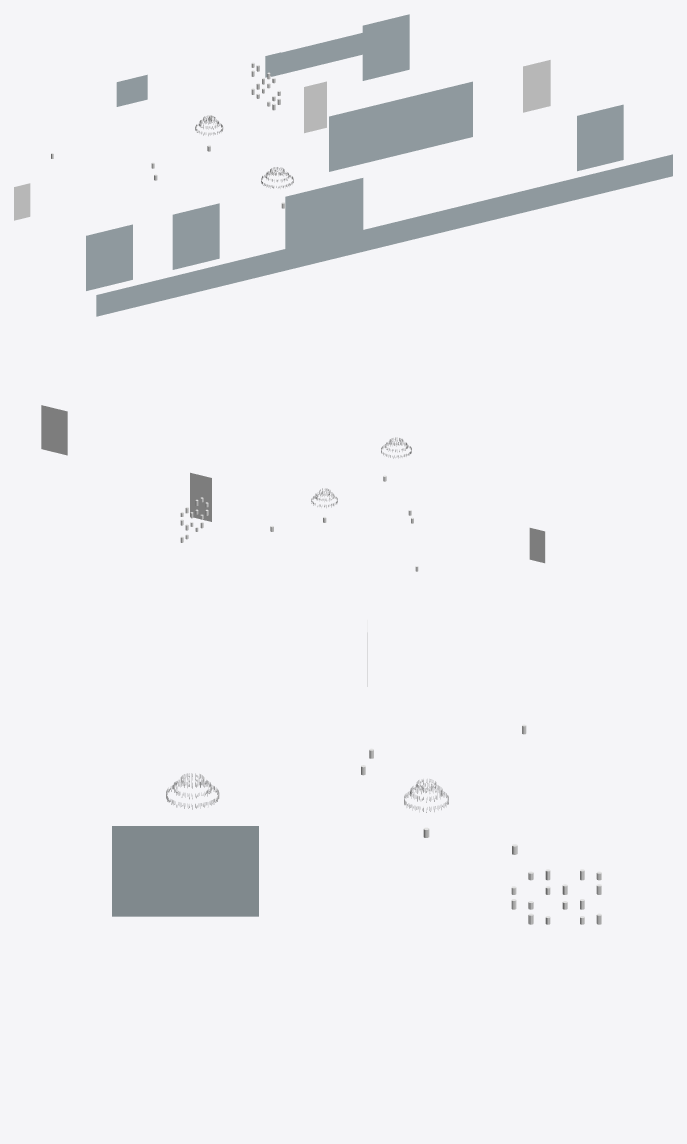
Rendered from GLASS.glb.
3 views of the same model, one above another, from view 1: azimuth 30°, elevation 25°; view 2: azimuth 150°, elevation 25°; view 3: azimuth 270°, elevation 25° (orthographic). The views are drawn at different scales.
Parts seen in each view (by area): view 1: WEB_GLASS; view 2: WEB_GLASS; view 3: WEB_GLASS.
Boxes of the visible parts, x1,y1,x2,y2 form: WEB_GLASS: (14,14,672,316); WEB_GLASS: (41,405,545,571); WEB_GLASS: (112,620,601,924).
Bounding box in the file's own units: 26.69 × 2.45 × 16.2.
